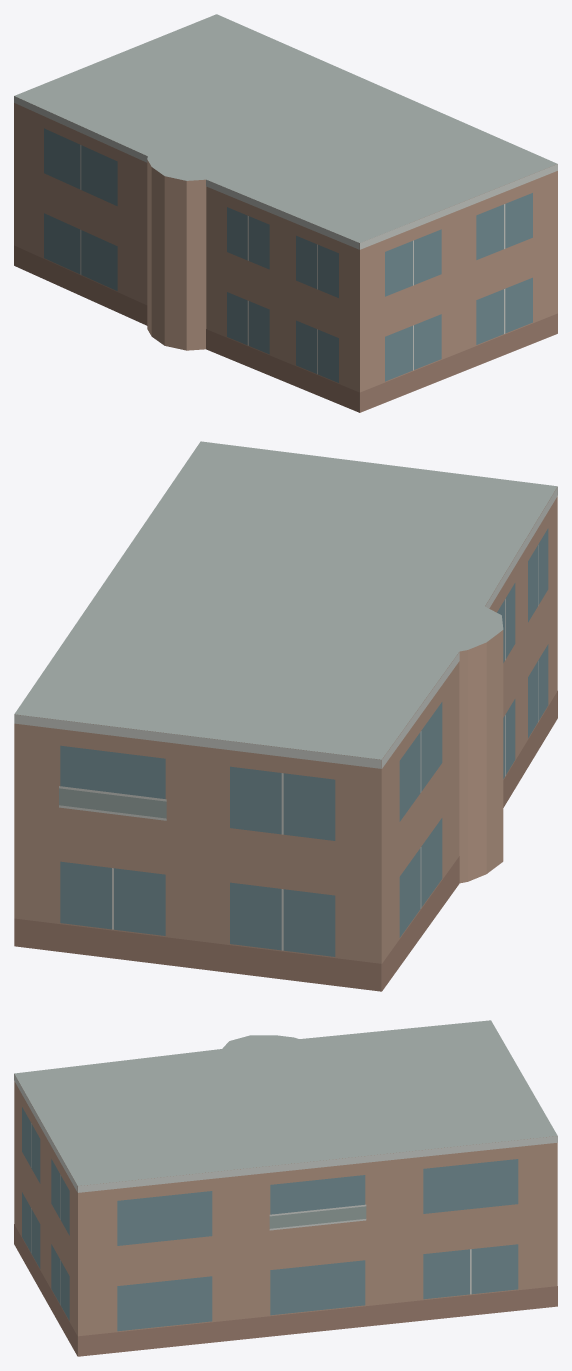
The model's file is survey-upis-32607721.glb.
3 views of the same model, one above another, from view 1: azimuth 30°, elevation 25°; view 2: azimuth 150°, elevation 25°; view 3: azimuth 270°, elevation 25° (orthographic). The views are drawn at different scales.
Parts seen in each view (by area): view 1: survey-upis-32607721.tmp; view 2: survey-upis-32607721.tmp; view 3: survey-upis-32607721.tmp.
Part boxes in pixels (x1,y1,x2,y2): survey-upis-32607721.tmp: (14, 14, 557, 412); survey-upis-32607721.tmp: (14, 441, 557, 991); survey-upis-32607721.tmp: (14, 1020, 557, 1356).
Size of the model in its own units: 12.73 by 6.1 by 17.63.
